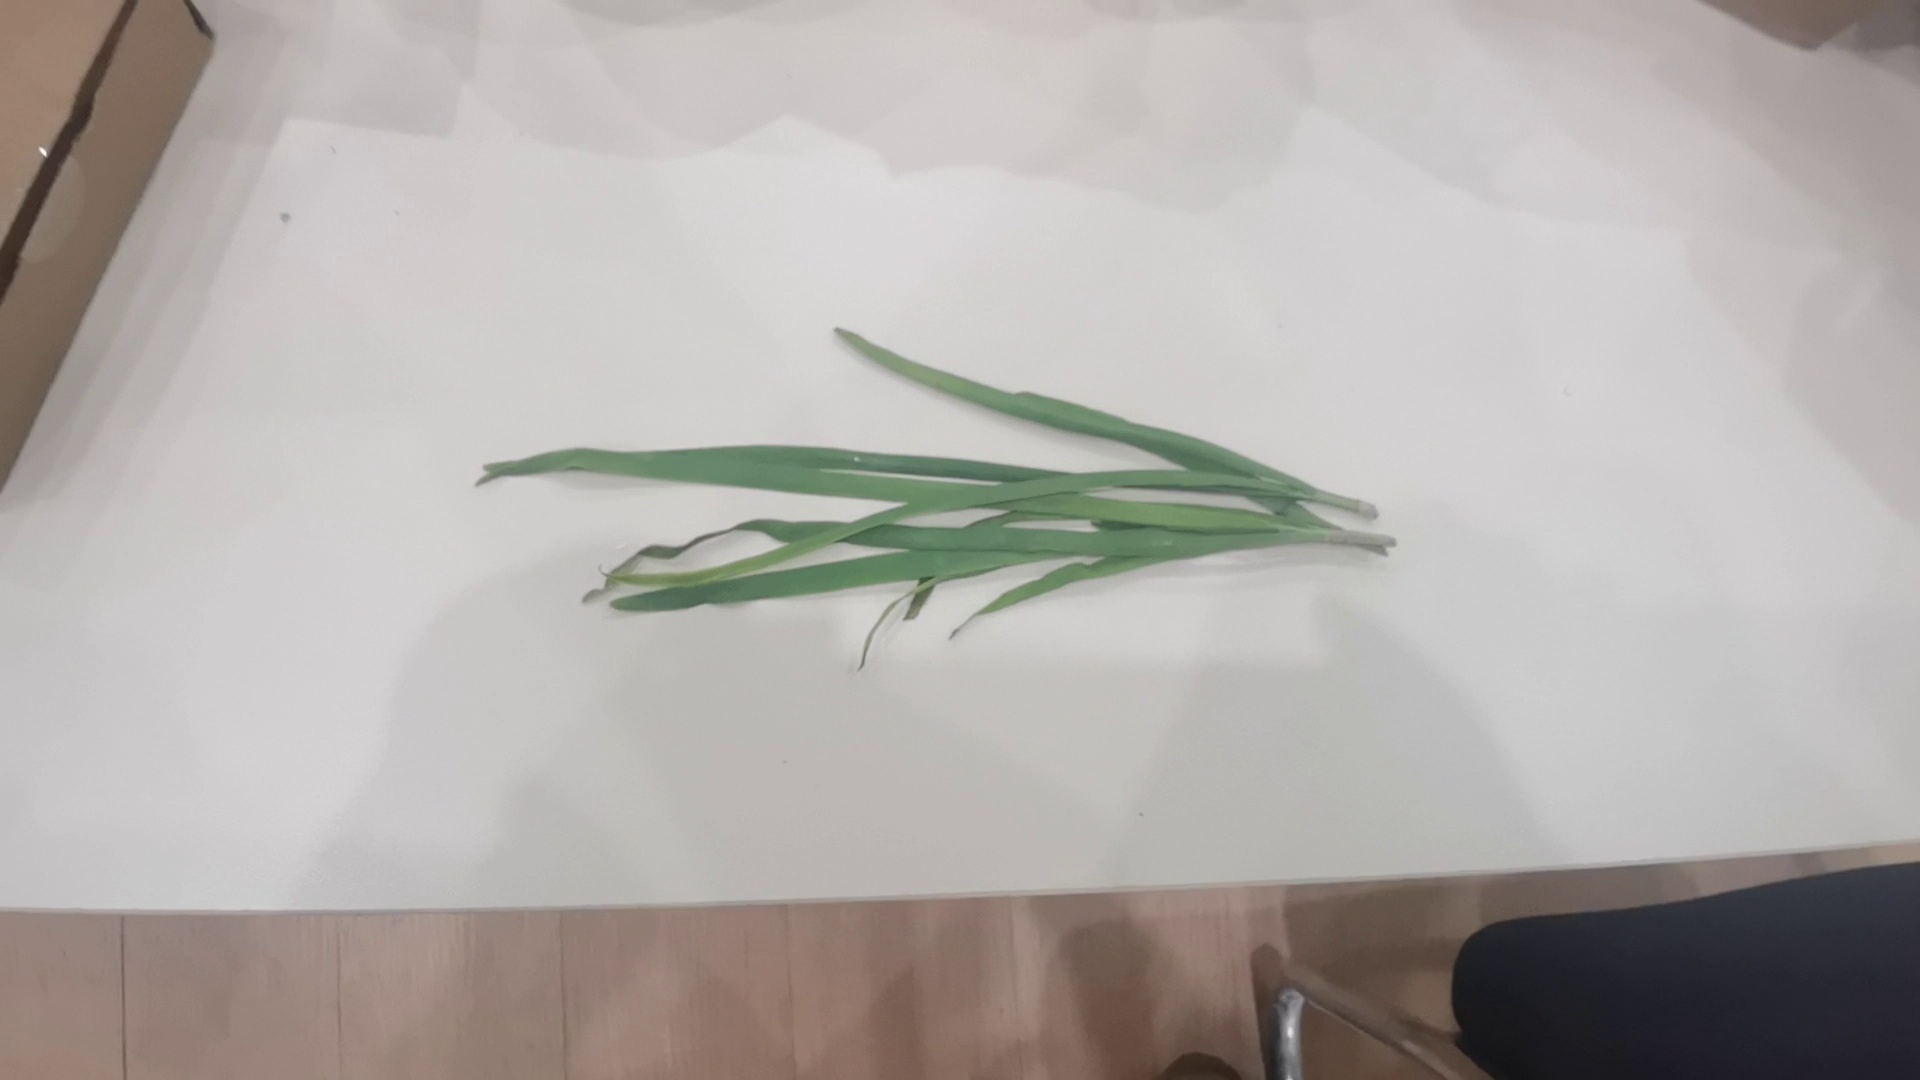chives: (477, 315, 1404, 647)
